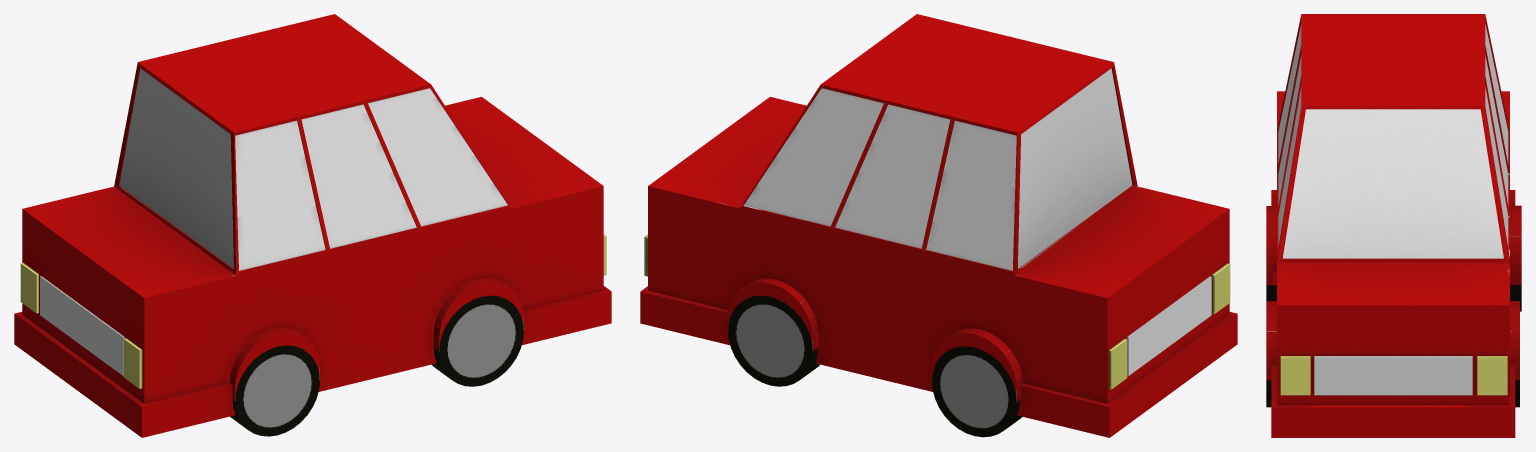
File: lowPolyCar2.glb
3 renders of one model, left to right at view 1: azimuth 30°, elevation 25°; view 2: azimuth 150°, elevation 25°; view 3: azimuth 270°, elevation 25°, orthographic. The views are drawn at different scales.
Visible parts, largest first — view 1: Cube, Cylinder, Cylinder.001, Cube.008, Cube.006, Cube.007; view 2: Cube, Cylinder.003, Cylinder.002, Cube.008, Cube.006, Cube.007; view 3: Cube, Cube.001, Cube.004, Cube.005, Cylinder.003, Cylinder.001, Cylinder, Cylinder.002.
Part boxes in pixels (bbox=[...]): Cube: bbox=[14, 14, 611, 437]; Cylinder: bbox=[431, 278, 523, 386]; Cylinder.001: bbox=[229, 328, 319, 436]; Cube.008: bbox=[40, 276, 124, 375]; Cube.006: bbox=[123, 338, 142, 388]; Cube.007: bbox=[20, 263, 38, 313]; Cube: bbox=[640, 14, 1237, 437]; Cylinder.003: bbox=[932, 328, 1022, 437]; Cylinder.002: bbox=[728, 278, 819, 386]; Cube.008: bbox=[1127, 276, 1211, 375]; Cube.006: bbox=[1212, 263, 1230, 314]; Cube.007: bbox=[1109, 339, 1127, 389]; Cube: bbox=[1271, 14, 1515, 437]; Cube.001: bbox=[1314, 356, 1472, 395]; Cube.004: bbox=[1477, 356, 1507, 395]; Cube.005: bbox=[1280, 356, 1310, 395]; Cylinder.003: bbox=[1510, 205, 1521, 311]; Cylinder.001: bbox=[1266, 206, 1276, 300]; Cylinder: bbox=[1266, 301, 1276, 407]; Cylinder.002: bbox=[1510, 301, 1519, 407].
Bounding box in the file's own units: 3.75 × 2.25 × 1.85.
4 materials, 4 textured.
